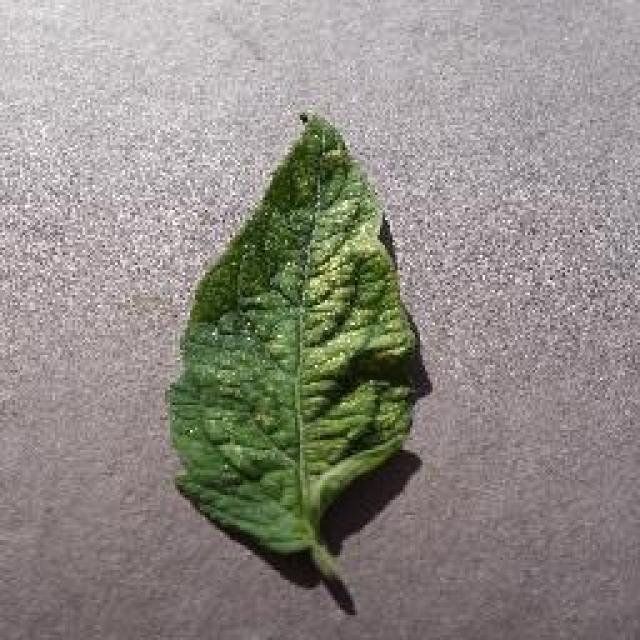Tomato___Spider_mites Two-spotted_spider_mite: (168, 112, 415, 612)
